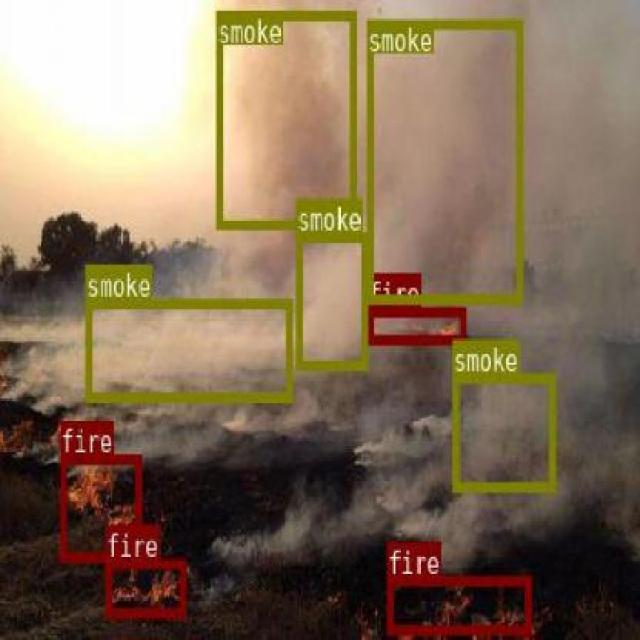fire: (59, 454, 141, 562), (385, 574, 530, 634), (104, 556, 184, 616), (366, 306, 464, 342)
smoke: (365, 17, 521, 303), (215, 8, 354, 228), (84, 296, 290, 402), (452, 372, 554, 490), (294, 232, 366, 368)
